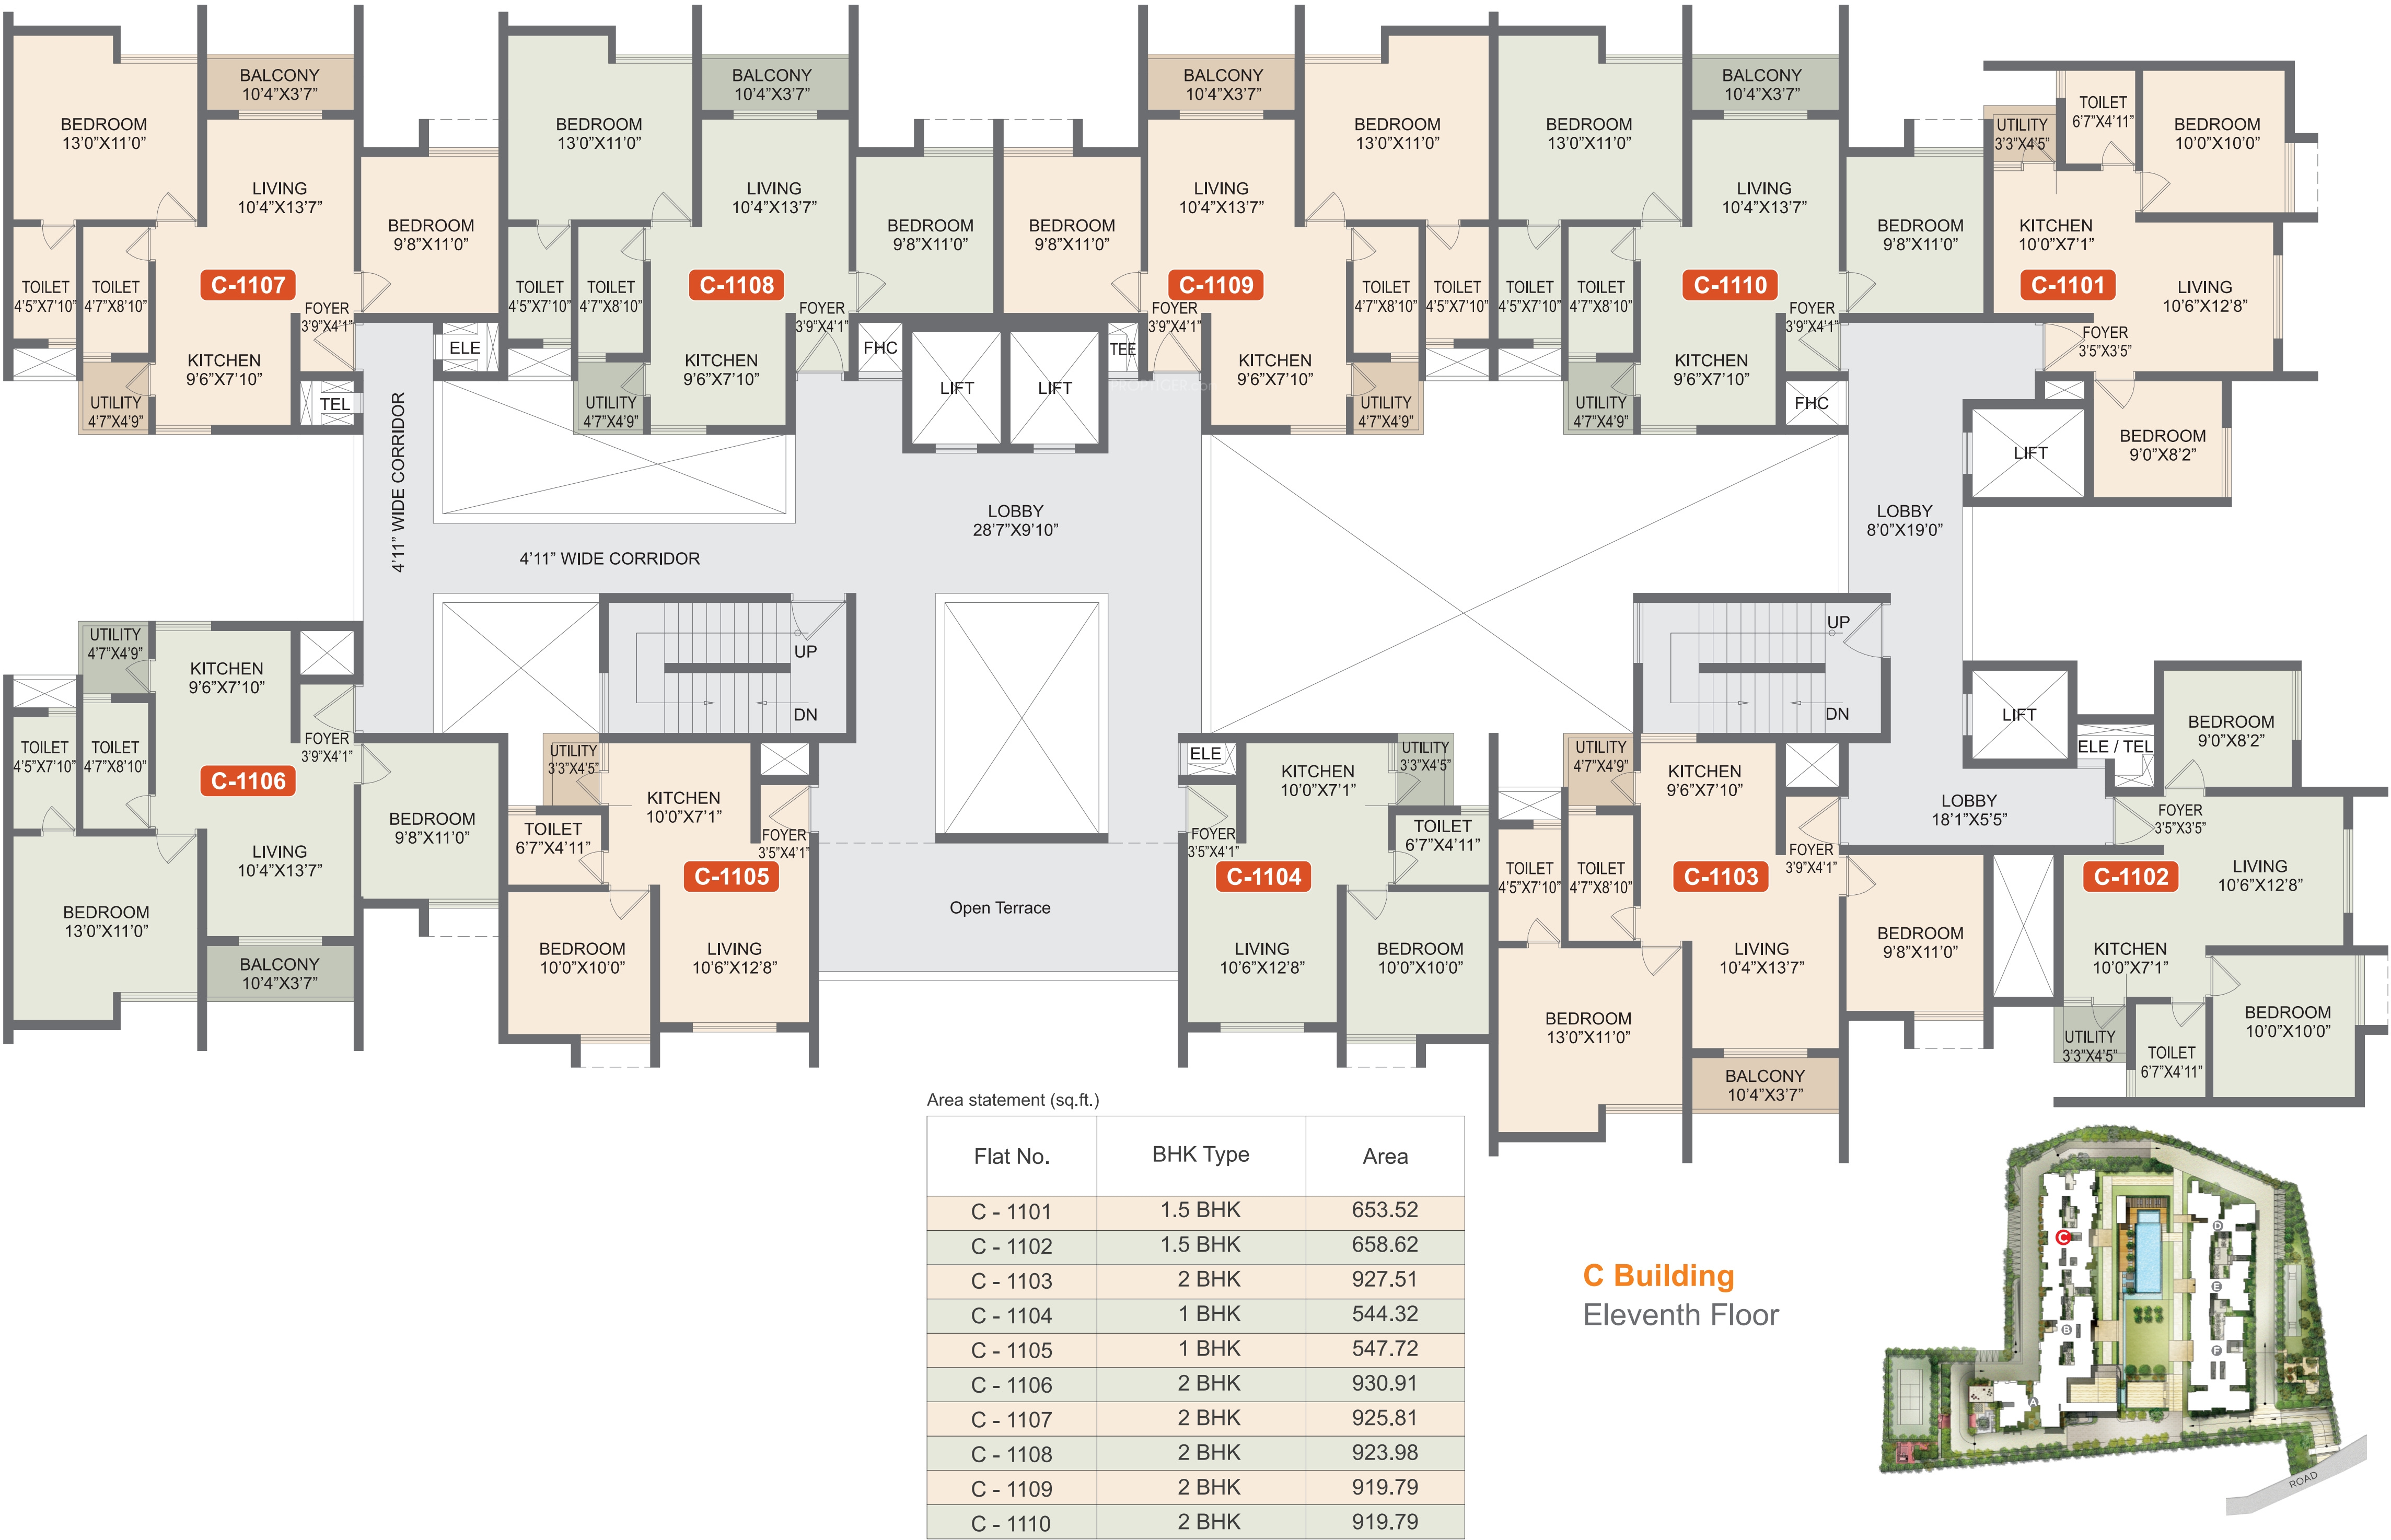window: (730, 106, 823, 124), (235, 106, 324, 124), (1602, 51, 1683, 68), (1302, 51, 1384, 68), (1176, 108, 1267, 124), (1722, 106, 1811, 122), (612, 51, 697, 66), (425, 895, 502, 913), (577, 1031, 654, 1049), (690, 1021, 781, 1035), (1218, 1021, 1309, 1035), (2340, 826, 2354, 915), (2272, 253, 2286, 340), (1000, 145, 1077, 160), (237, 934, 322, 948), (117, 990, 202, 1003), (425, 145, 500, 160), (1912, 145, 1987, 160), (920, 143, 995, 159), (2353, 955, 2368, 1026), (1603, 1101, 1683, 1115), (1722, 1047, 1809, 1059), (2283, 139, 2297, 214), (2290, 669, 2304, 742), (596, 671, 612, 735), (117, 52, 199, 64), (1631, 601, 1647, 664), (1344, 1033, 1420, 1045), (2220, 425, 2232, 500), (1912, 1009, 1985, 1021), (647, 423, 709, 437), (1288, 423, 1349, 437), (153, 620, 214, 634), (1640, 423, 1697, 437), (1640, 732, 1697, 746), (1959, 693, 1976, 737), (153, 423, 214, 436), (932, 441, 978, 455), (1032, 441, 1077, 455), (1961, 430, 1973, 476), (2123, 1066, 2138, 1099), (1565, 350, 1598, 364), (1422, 336, 1453, 350), (1530, 336, 1561, 350), (82, 692, 113, 706), (1459, 803, 1490, 817), (540, 338, 573, 350), (575, 350, 608, 362), (1530, 819, 1563, 831), (45, 338, 77, 350), (82, 352, 113, 364), (1389, 352, 1420, 364), (47, 707, 78, 719), (1567, 803, 1598, 815)
